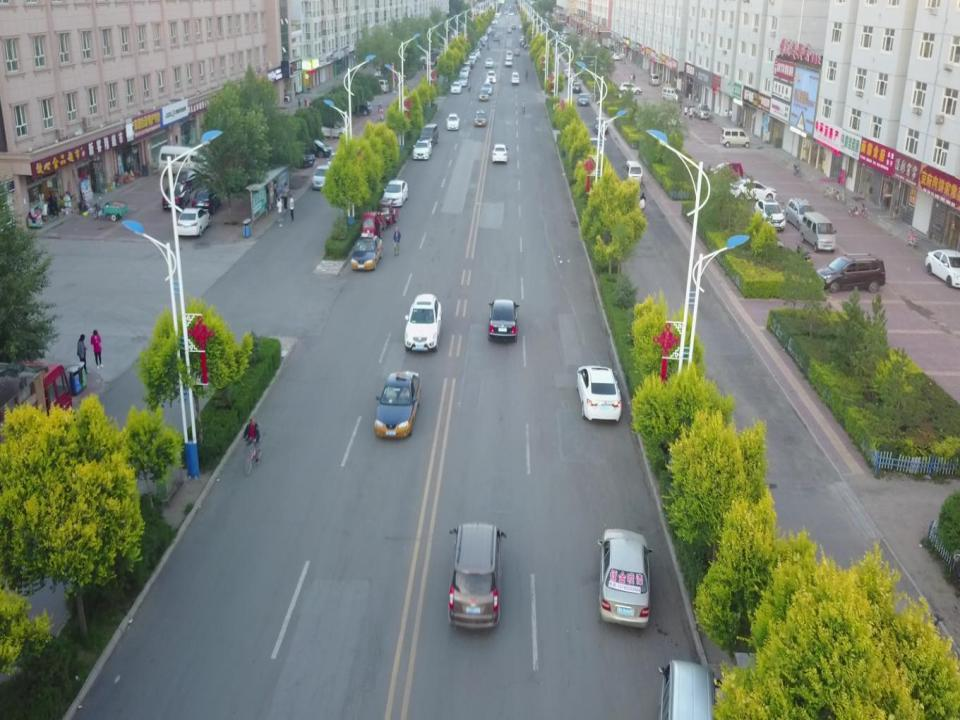car: (596, 528, 652, 632), (375, 370, 419, 439), (576, 367, 622, 423), (404, 293, 442, 351), (924, 249, 960, 287), (785, 198, 818, 234), (351, 233, 382, 271), (489, 298, 516, 341), (175, 206, 211, 238), (276, 141, 316, 169), (754, 198, 786, 231), (728, 180, 776, 201), (383, 179, 409, 209), (192, 189, 222, 215), (293, 136, 332, 156), (708, 162, 743, 184), (162, 182, 189, 210), (314, 120, 350, 140), (173, 169, 203, 191), (311, 166, 331, 190), (412, 139, 432, 159), (345, 102, 373, 116), (492, 144, 508, 164), (618, 82, 642, 95), (593, 117, 608, 136), (446, 113, 460, 131), (474, 110, 487, 126), (577, 94, 589, 106), (648, 74, 659, 85)
truck: (378, 199, 398, 224), (692, 103, 711, 121)
van: (449, 522, 505, 635), (816, 251, 885, 295), (158, 144, 212, 179), (801, 212, 837, 253), (720, 126, 751, 148), (419, 122, 439, 147), (622, 161, 642, 184), (662, 86, 682, 102), (370, 80, 389, 92)
